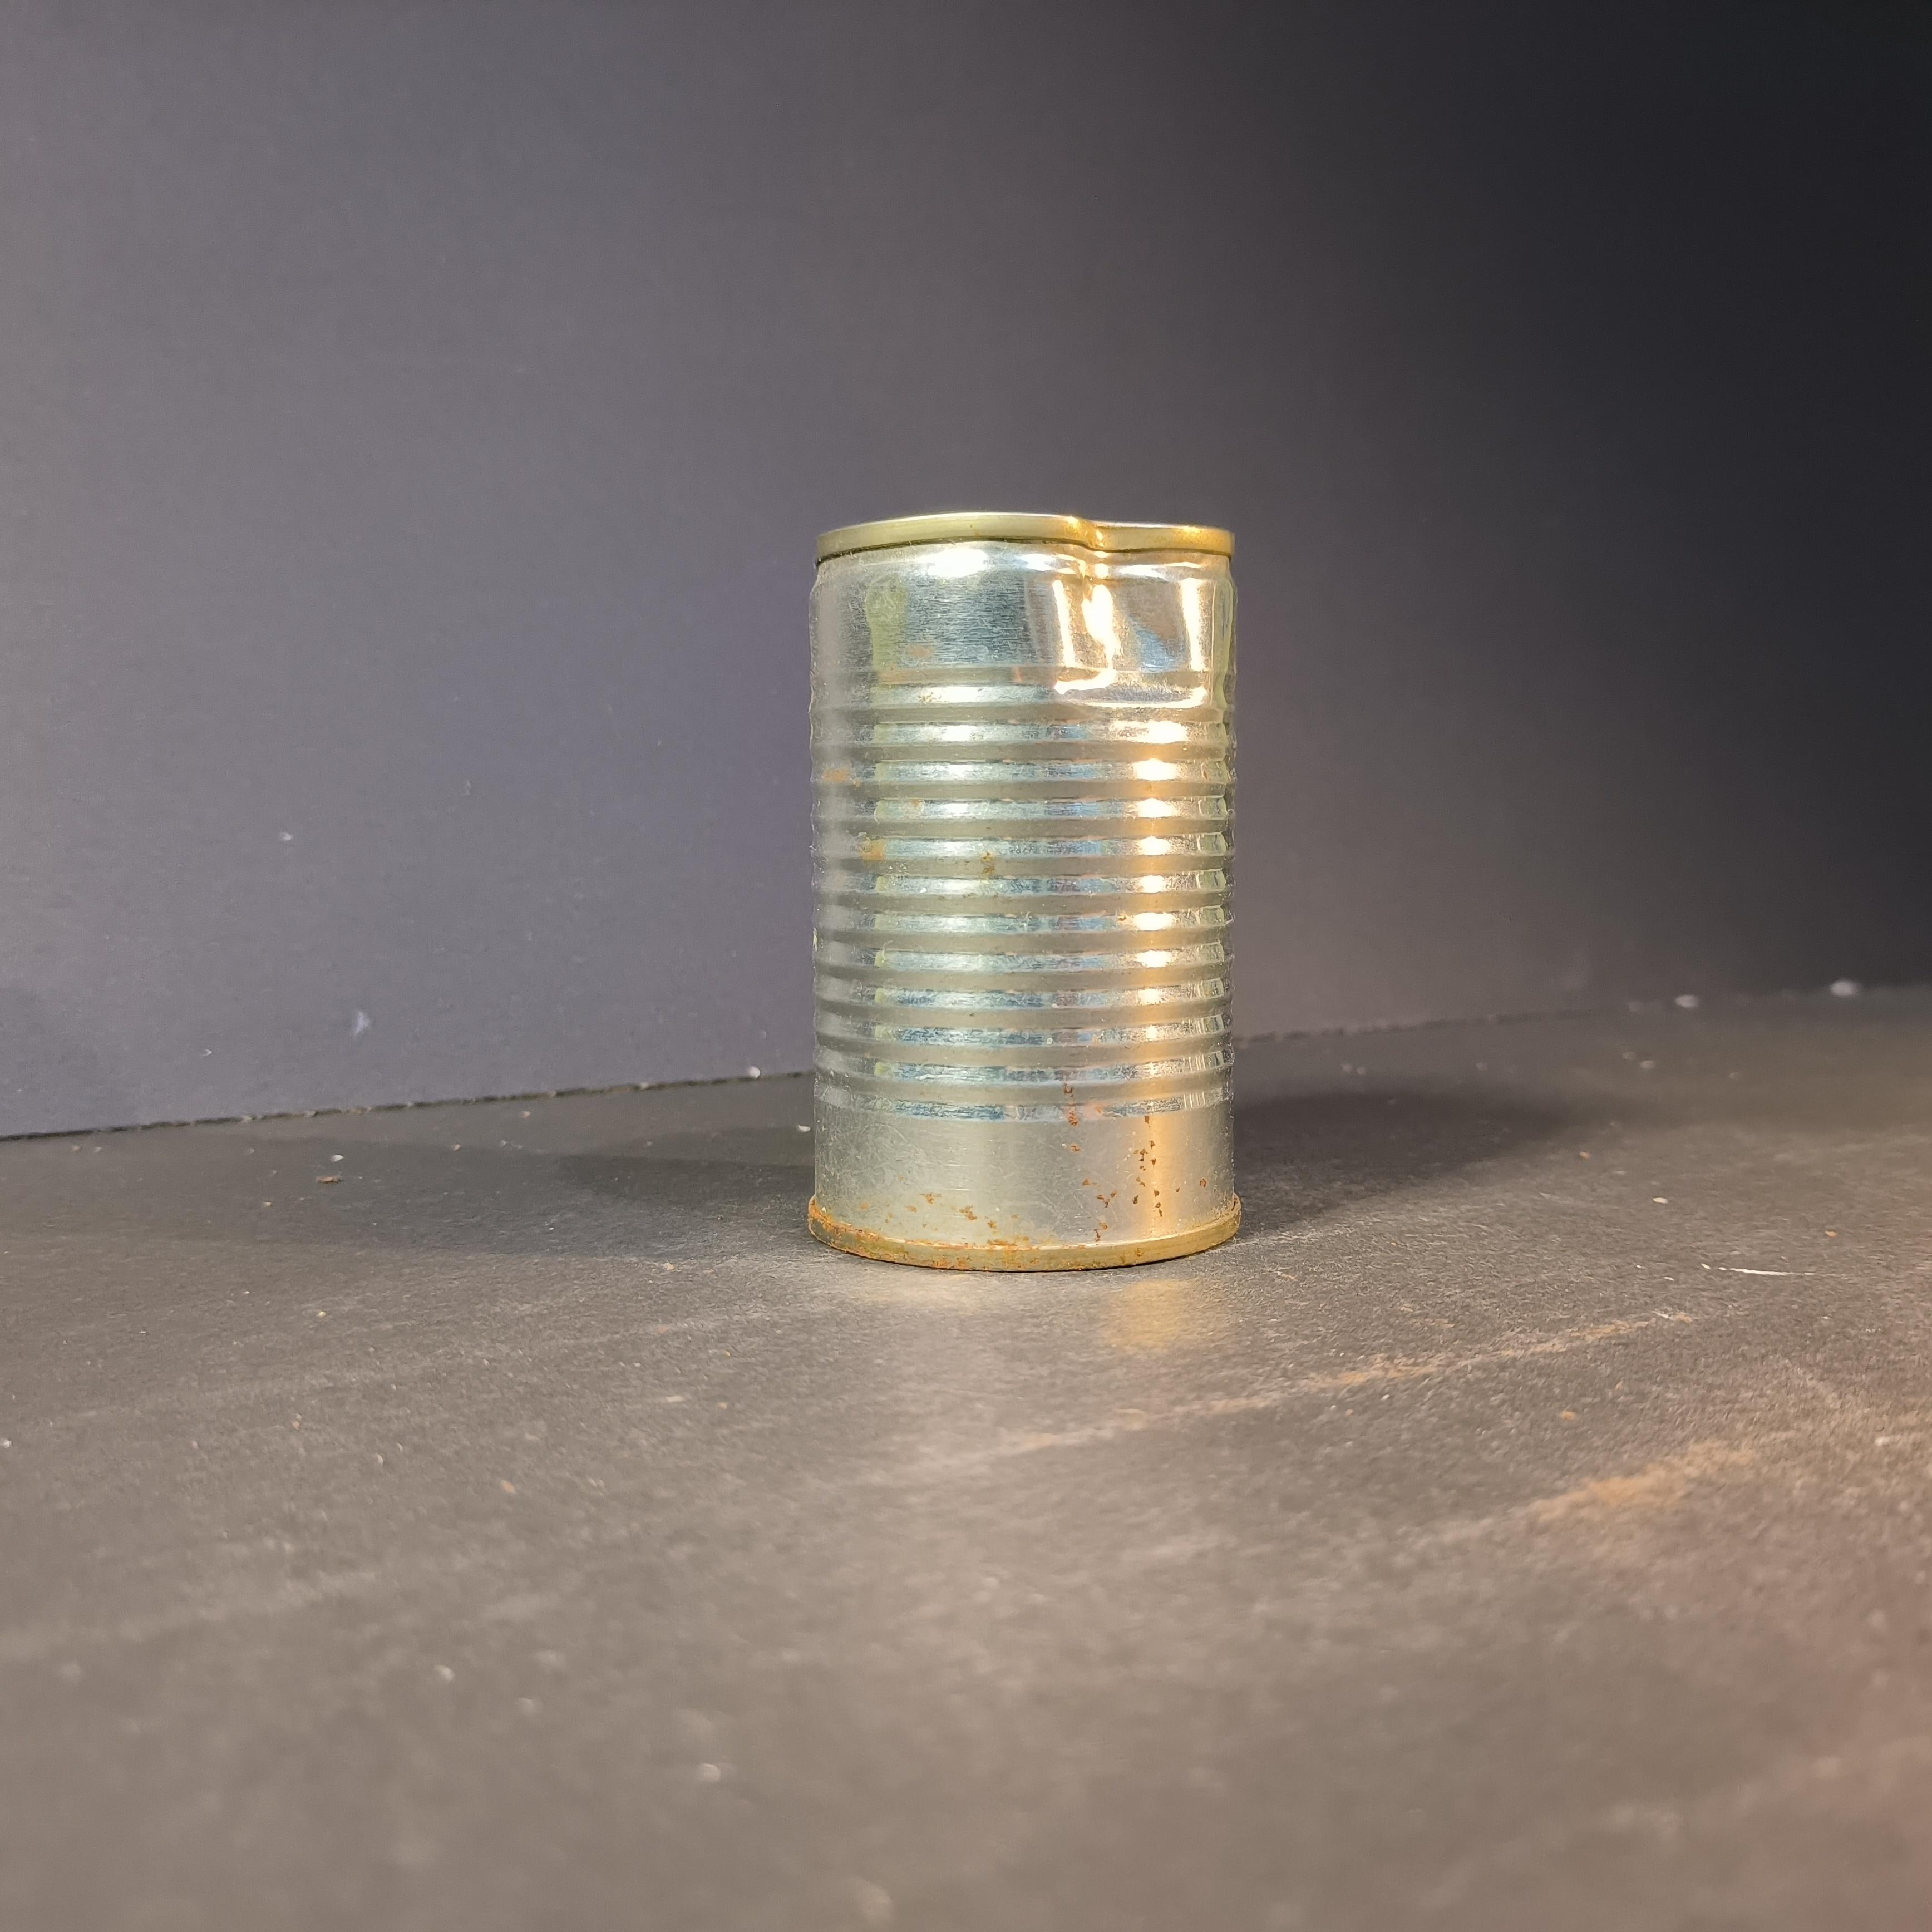Critical Defect: (803, 510, 1240, 1274)
